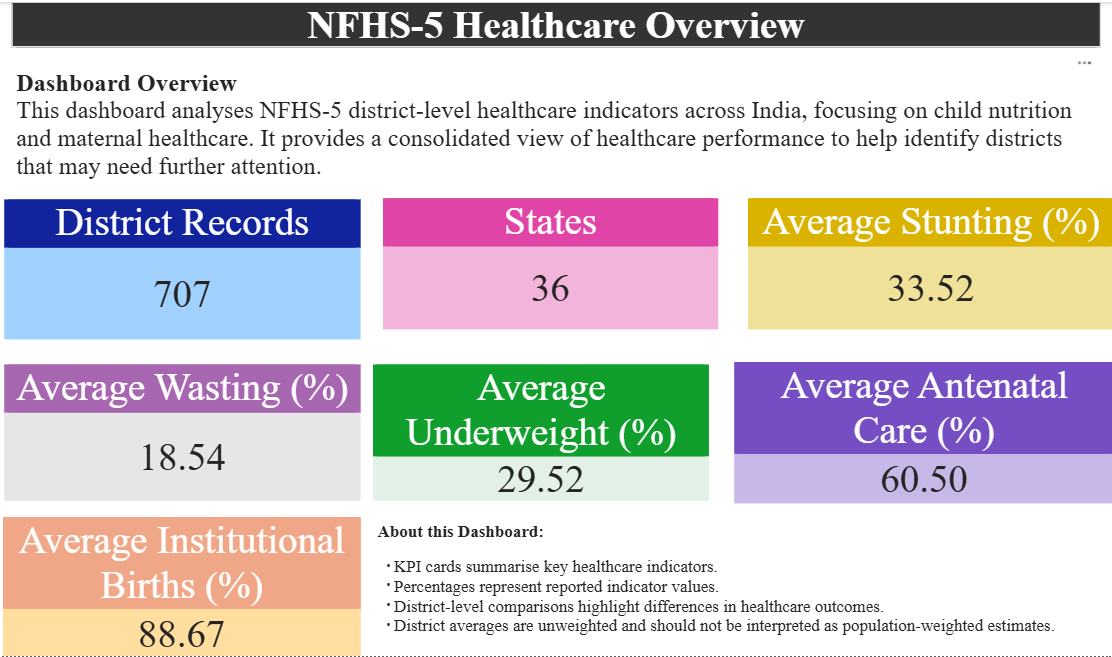

What the dashboard file says about the page in this screenshot:
{"tool":"powerbi","page":{"name":"Page 1","canvas":[1280,720],"ordinal":0},"visuals":[{"type":"card","title":"States","fields":{"Values":["Count(nfhs_cleaned.state_ut)"]},"box":[454.9,114.1,369,143.7],"z":0},{"type":"card","title":"Average Stunting (%)","fields":{"Values":["Avg(nfhs_cleaned.children_under_5_years_who_are_stunted_height_for_age_18)"]},"box":[854.9,114.1,401.4,143.7],"z":1000},{"type":"card","title":"Average Wasting (%)","fields":{"Values":["Avg(nfhs_cleaned.children_under_5_years_who_are_wasted_weight_for_height_18)"]},"box":[50.7,326.8,391.5,149.3],"z":2000},{"type":"card","title":"Average Underweight (%)","fields":{"Values":["Avg(nfhs_cleaned.children_under_5_years_who_are_underweight_weight_for_age_18)"]},"box":[469,326.8,369,149.3],"z":3000},{"type":"card","title":"Average Antenatal Care (%)","fields":{"Values":["Avg(nfhs_cleaned.mothers_who_had_at_least_4_antenatal_care_visits_for_last_birth_in_the_5_years_before_the_survey)"]},"box":[854.9,321.1,401.4,154.9],"z":4000},{"type":"card","title":"Average Institutional Births (%)","fields":{"Values":["Avg(nfhs_cleaned.institutional_births_in_the_5_years_before_the_survey)"]},"box":[50.7,516.9,1205.6,101.4],"z":5000},{"type":"textbox","title":"NFHS-5 Healthcare Overview","box":[62.9,0,1075.7,50],"z":6000},{"type":"card","title":"District Records","fields":{"Values":["CountNonNull(nfhs_cleaned.district_names)"]},"box":[39.4,104.2,391.5,153.5],"z":7000}]}

Visuals, with their boxes on the page's 1280x720 design canvas (x1, y1, x2, y2). These are canvas units, not pixel positions in the 1112x657 screenshot, which may show the page scaled, cropped or inside an application window:
"States" card: [x1=455, y1=114, x2=824, y2=258]
"Average Stunting (%)" card: [x1=855, y1=114, x2=1256, y2=258]
"Average Wasting (%)" card: [x1=51, y1=327, x2=442, y2=476]
"Average Underweight (%)" card: [x1=469, y1=327, x2=838, y2=476]
"Average Antenatal Care (%)" card: [x1=855, y1=321, x2=1256, y2=476]
"Average Institutional Births (%)" card: [x1=51, y1=517, x2=1256, y2=618]
"NFHS-5 Healthcare Overview" textbox: [x1=63, y1=0, x2=1139, y2=50]
"District Records" card: [x1=39, y1=104, x2=431, y2=258]
